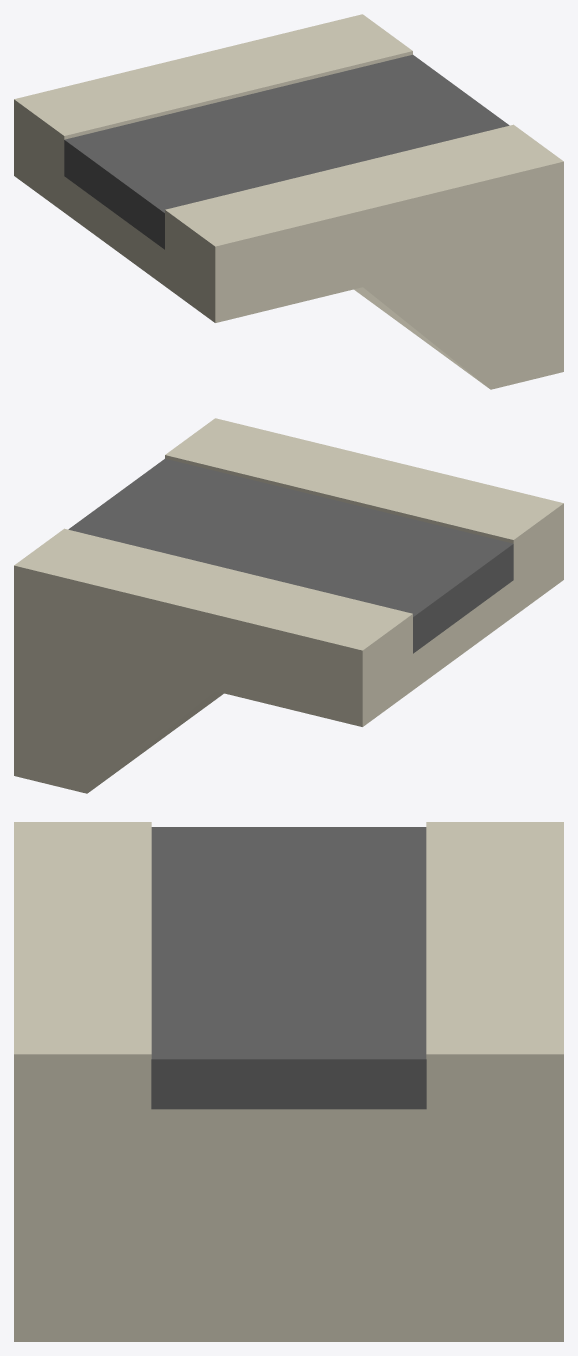
The model's file is roadTile_204.fbx.
3 renders of one model, top to bottom at view 1: azimuth 30°, elevation 25°; view 2: azimuth 150°, elevation 25°; view 3: azimuth 270°, elevation 25°, orthographic. The views are drawn at different scales.
Parts seen in each view (by area): view 1: roadTile_204; view 2: roadTile_204; view 3: roadTile_204.
Boxes of the visible parts, x1=… form: roadTile_204: x1=14, y1=14, x2=563, y2=389; roadTile_204: x1=14, y1=418, x2=563, y2=793; roadTile_204: x1=14, y1=822, x2=563, y2=1341.
Bounding box in the file's own units: 118 × 68.11 × 118.
